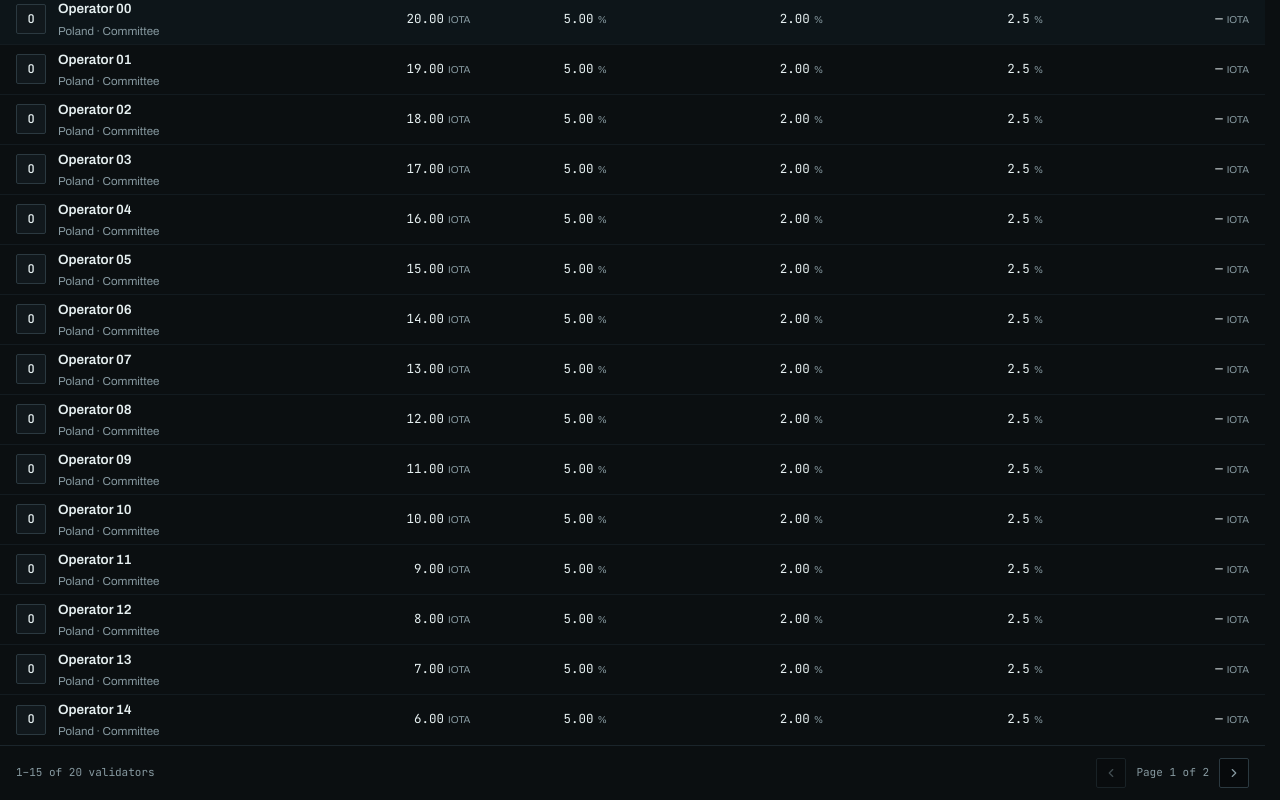
it: ValidatorsTable › paginates and resets on a new query
The width and height of the screenshot is (1280, 800).
Later steps or results of the test are not shown.
(page scrolled)
Expected: the button named "Previous validator page" is disabled, [1096,758,1126,788]
Click the button named "Next validator page": (1234, 772) [1219,758,1249,788]
(page scrolled)
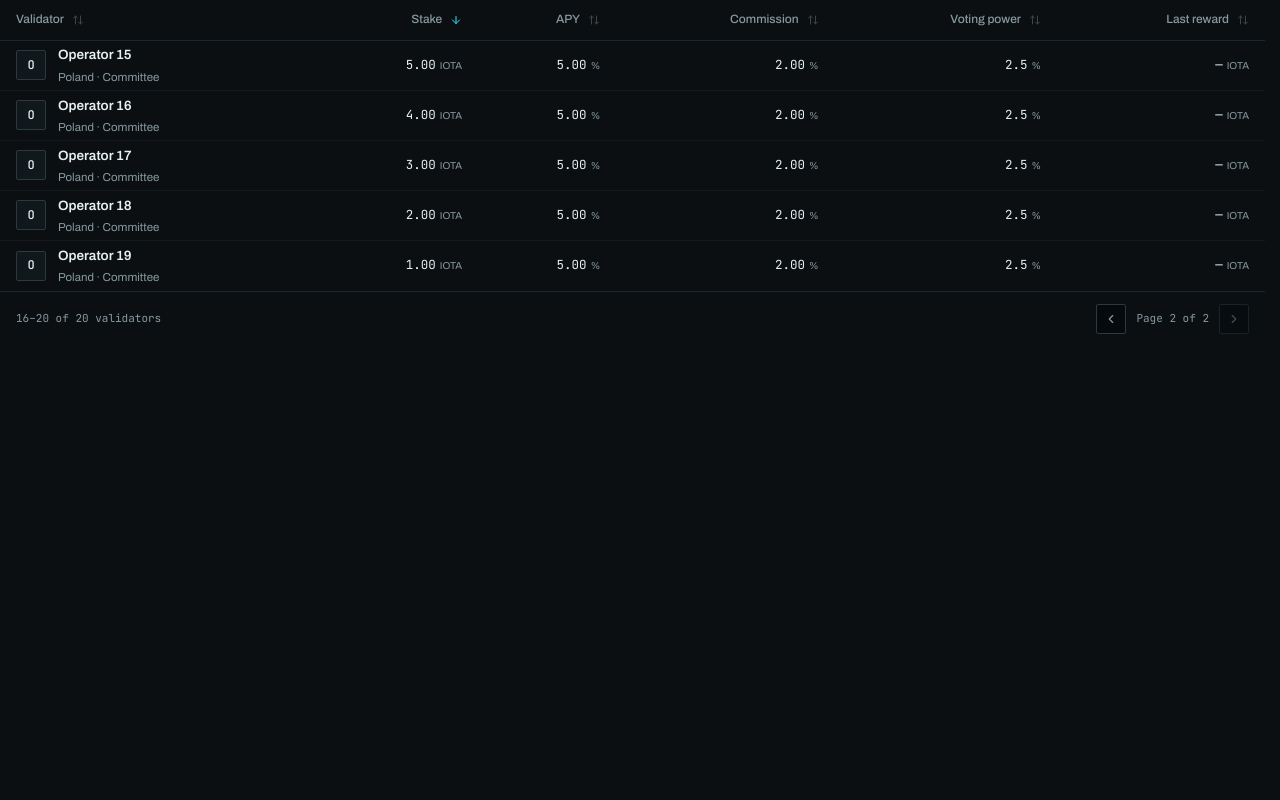
Expected: the text "Page 2 of 2" is shown, [1136,310,1209,326]
